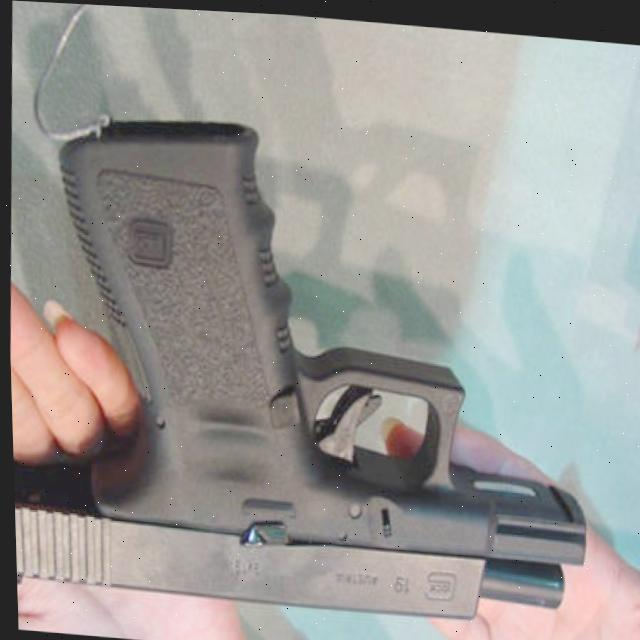pistol: (2, 97, 603, 631)
